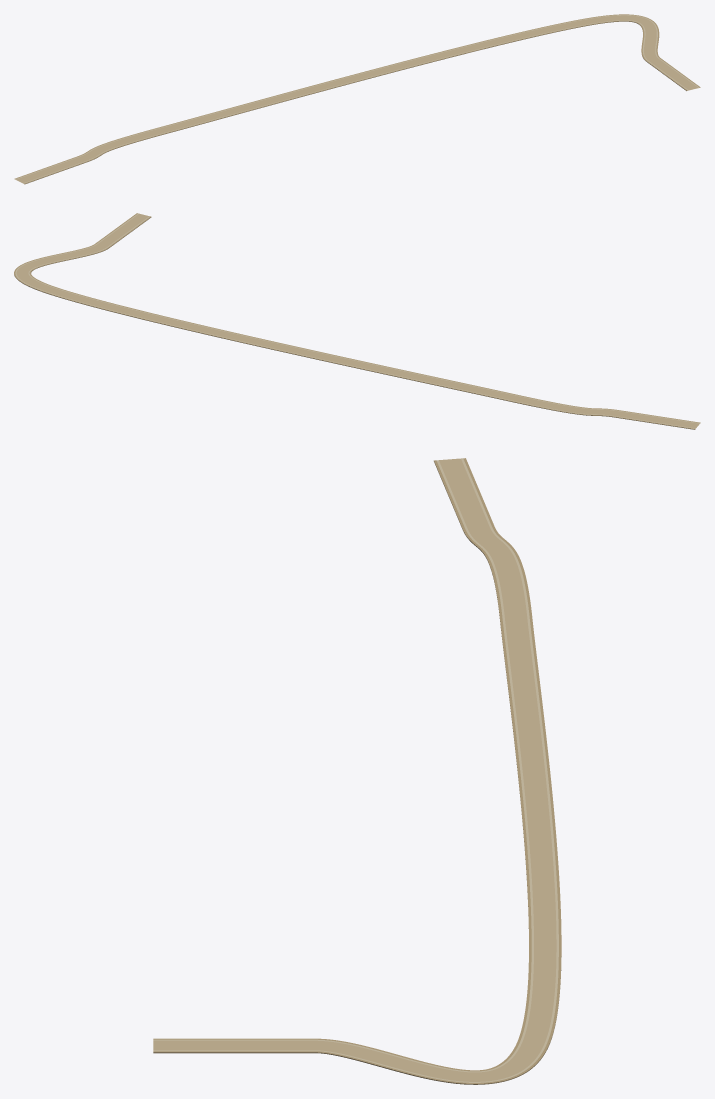
File: road_roam_to_stage_dust_valley.glb
3 views of the same model, one above another, from view 1: azimuth 30°, elevation 25°; view 2: azimuth 150°, elevation 25°; view 3: azimuth 270°, elevation 25° (orthographic). The views are drawn at different scales.
Visible parts, largest first — view 1: road; view 2: road; view 3: road.
Boxes of the visible parts, <box> form: road: <box>14,14,700,184</box>; road: <box>14,213,700,429</box>; road: <box>153,458,561,1084</box>.
Size of the model in its own units: 546 by 0.32 by 150.
